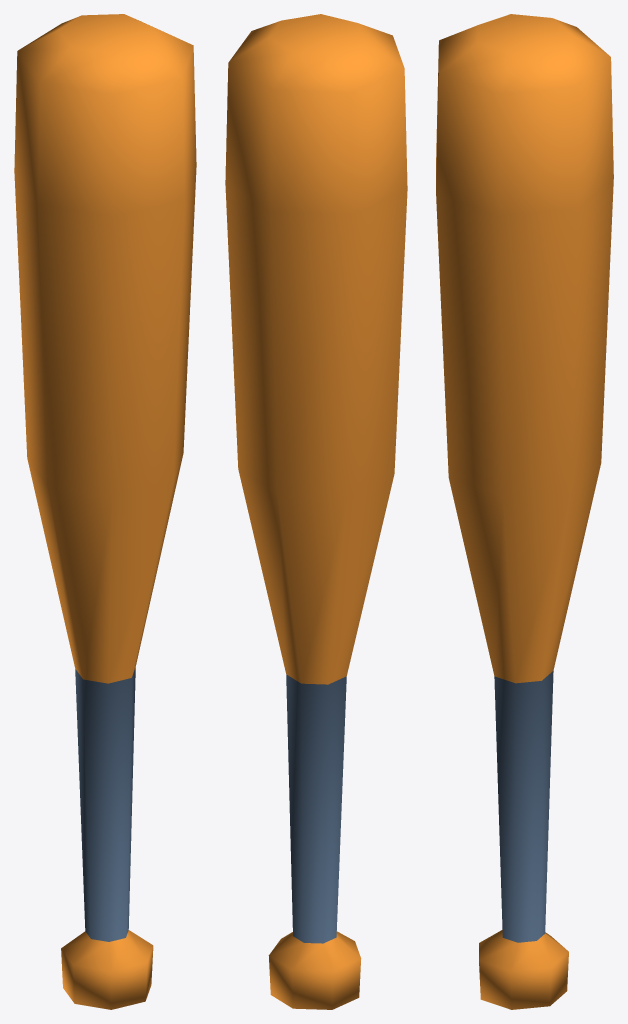
File: Bat.fbx
The picture shows the model from 3 angles, left to right: view 1: azimuth 30°, elevation 25°; view 2: azimuth 150°, elevation 25°; view 3: azimuth 270°, elevation 25°; orthographic projection.
Parts seen in each view (by area): view 1: Bat; view 2: Bat; view 3: Bat.
Part boxes in pixels (x1,y1,x2,y2): Bat: (14, 14, 196, 1009); Bat: (225, 14, 407, 1009); Bat: (436, 14, 613, 1009).
Bounding box in the file's own units: 0.4083 × 2.36 × 0.3981.
